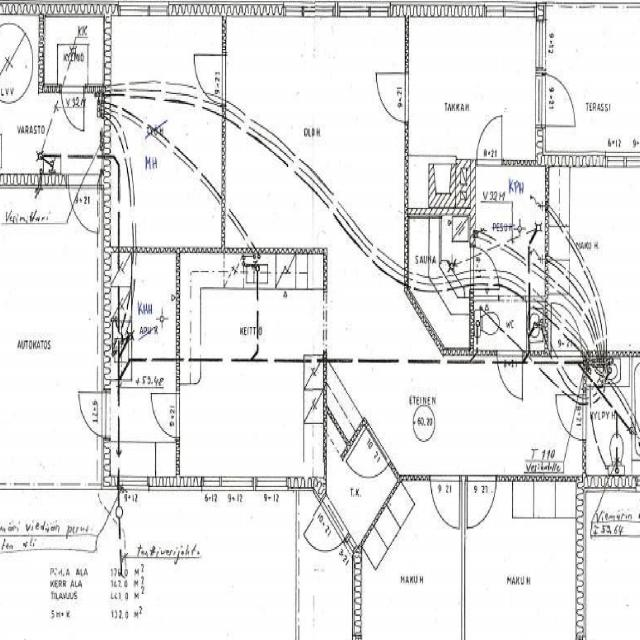door: (297, 494, 348, 580), (344, 424, 390, 501), (536, 73, 576, 127), (68, 174, 98, 238), (74, 392, 110, 438), (551, 300, 581, 355), (430, 476, 460, 530), (467, 476, 496, 530), (193, 55, 225, 103), (554, 394, 586, 439), (150, 393, 180, 438), (496, 349, 522, 398), (470, 246, 500, 288), (477, 119, 502, 166)
